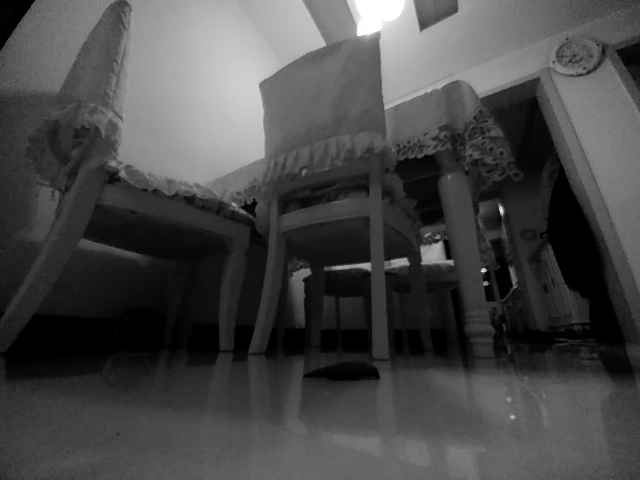pet feces: (301, 359, 382, 382)
